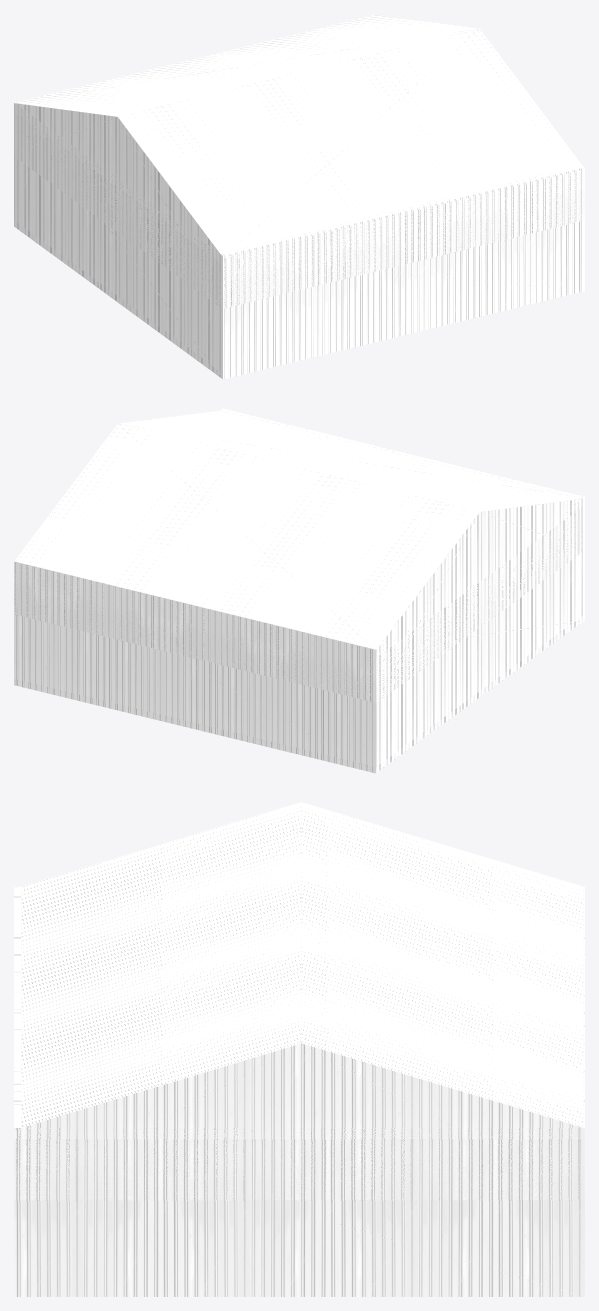
File: steel-building.gltf
3 views of the same model, one above another, from view 1: azimuth 30°, elevation 25°; view 2: azimuth 150°, elevation 25°; view 3: azimuth 270°, elevation 25° (orthographic). The views are drawn at different scales.
Visible parts, largest first — view 1: base; view 2: base; view 3: base.
Boxes of the visible parts, bbox=[...] form: base: bbox=[14, 14, 584, 379]; base: bbox=[14, 408, 584, 773]; base: bbox=[14, 802, 584, 1296].
Size of what is drawn, in the model's own units: 0.1 by 0.049 by 0.1.
1 material, 1 textured.
